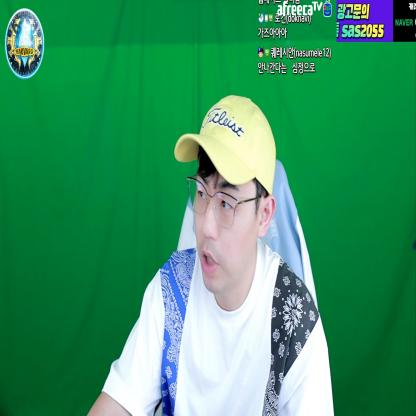streamer: (86, 94, 334, 416)
